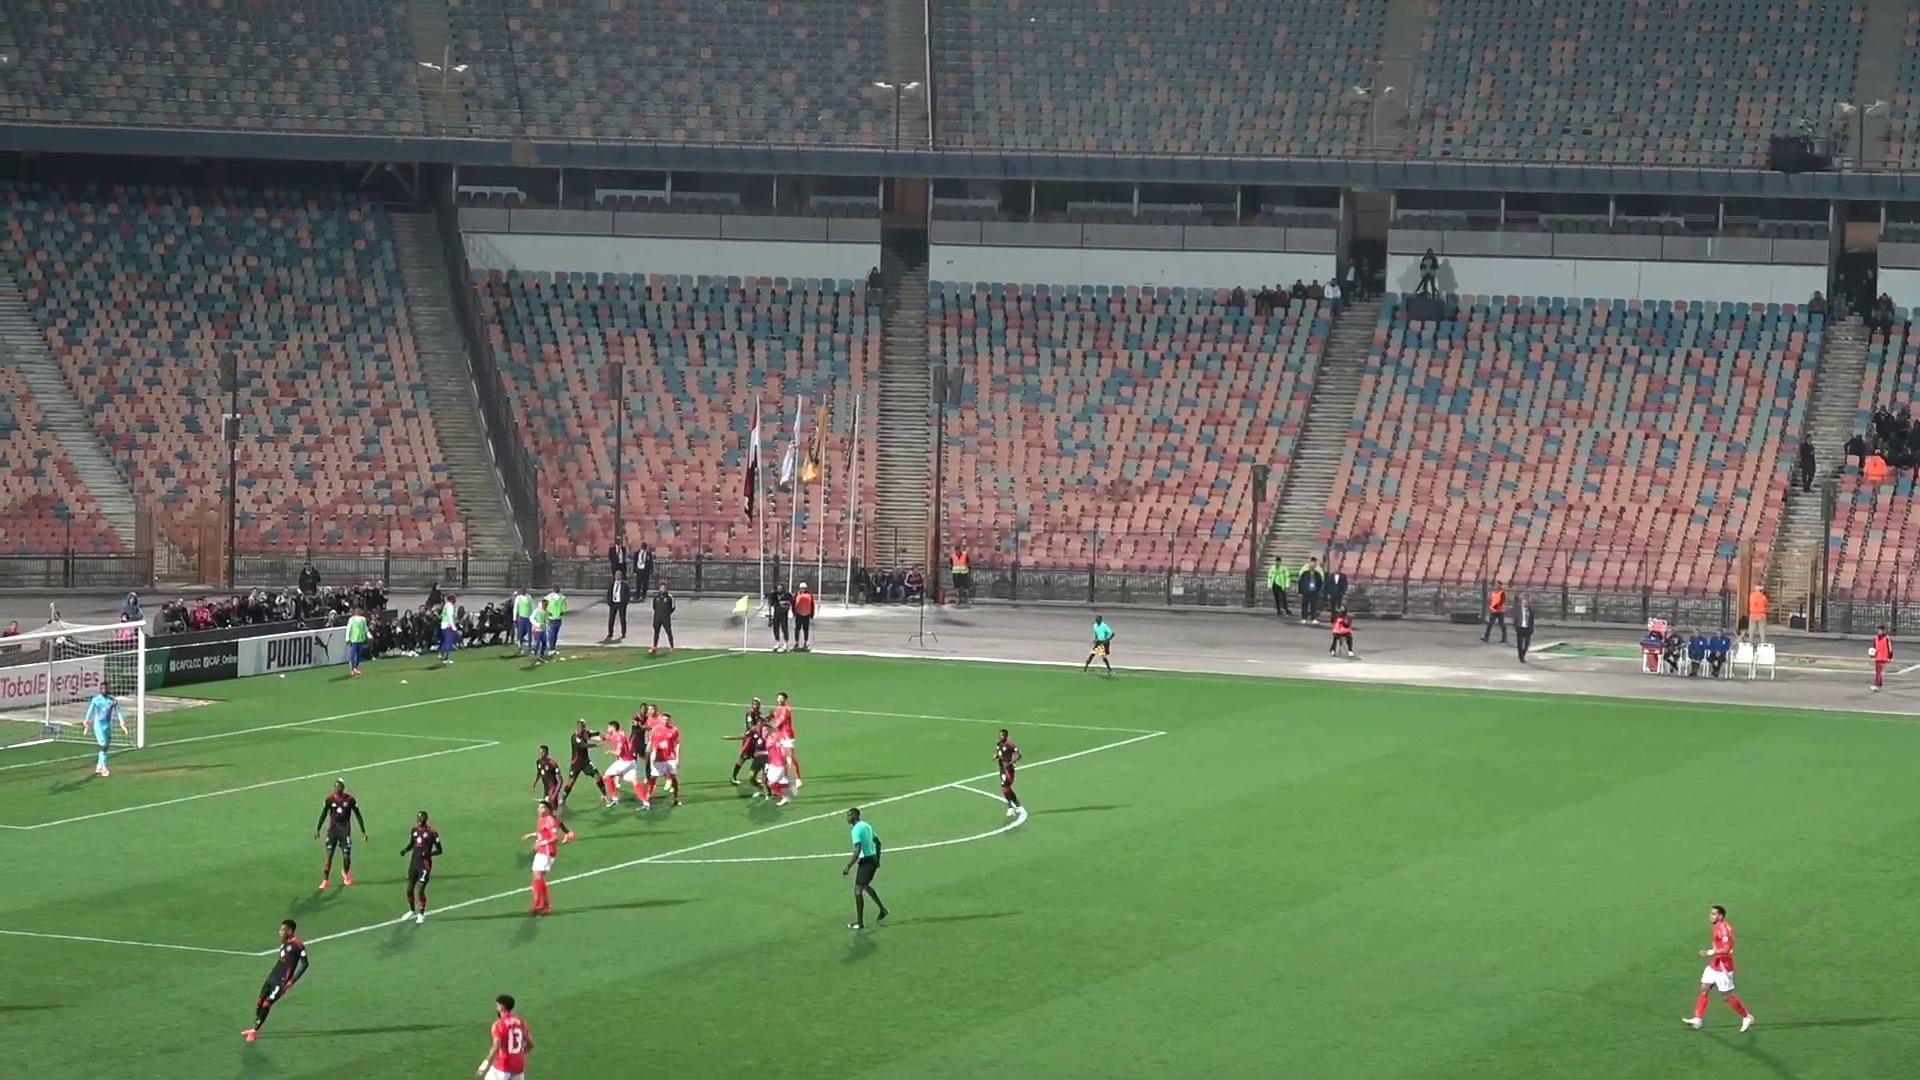GK2: (83, 682, 127, 775)
Refree: (843, 807, 889, 928), (1081, 615, 1114, 675)
Team1: (1684, 905, 1753, 1031), (521, 800, 575, 914), (476, 994, 533, 1079), (593, 720, 647, 807), (647, 712, 682, 804), (761, 725, 791, 804), (765, 692, 795, 746)
Team2: (243, 919, 309, 1042), (316, 777, 371, 890), (556, 717, 611, 808), (400, 810, 443, 920), (534, 746, 578, 840), (993, 729, 1026, 819), (731, 719, 767, 796), (628, 703, 653, 760), (742, 695, 764, 731)
